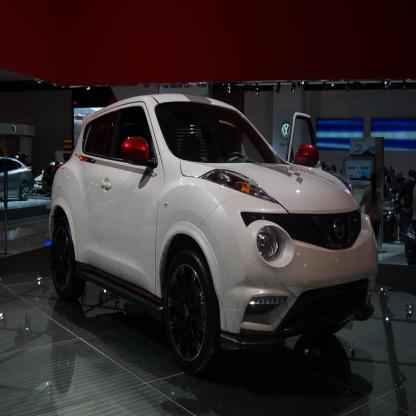Car: (46, 90, 380, 380), (0, 152, 31, 196), (398, 205, 416, 265), (33, 161, 65, 194), (0, 148, 34, 174), (380, 183, 397, 235), (34, 166, 52, 192), (363, 151, 373, 156), (353, 150, 361, 155), (360, 175, 368, 180), (348, 174, 355, 179)
